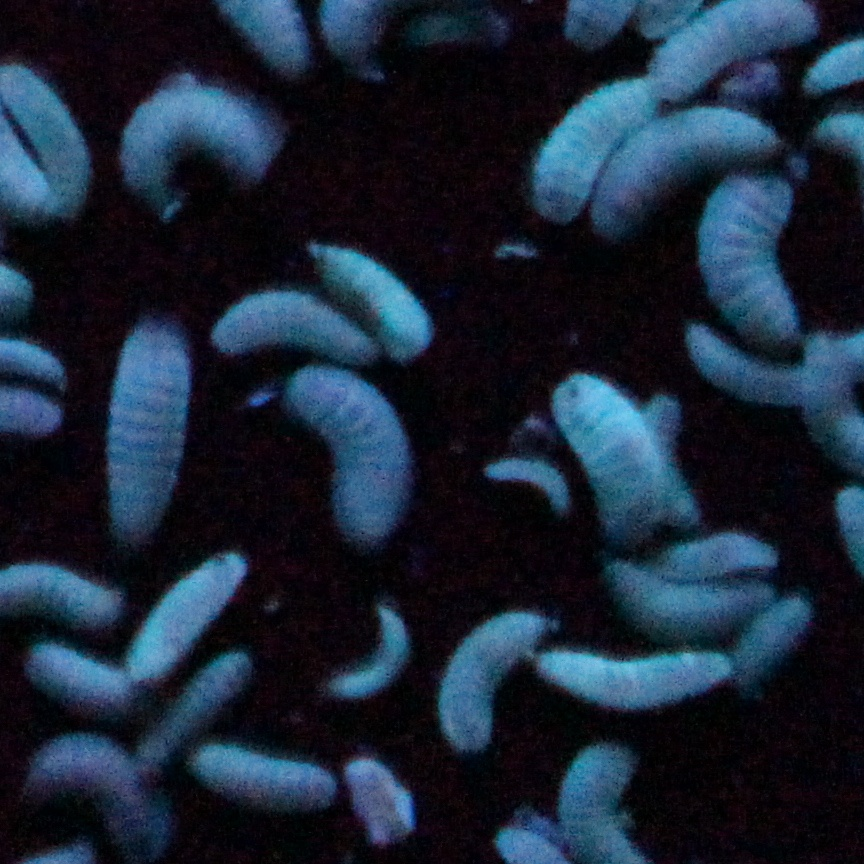larve: (281, 371, 403, 547), (586, 108, 765, 224), (552, 373, 668, 540), (125, 80, 268, 208), (101, 327, 184, 542), (699, 176, 799, 345), (442, 609, 555, 752), (537, 75, 647, 212), (22, 742, 153, 850), (117, 557, 242, 667), (309, 240, 429, 350), (524, 642, 725, 704), (594, 565, 766, 635), (206, 296, 371, 360), (681, 319, 806, 399), (188, 745, 337, 811), (157, 648, 240, 760), (325, 601, 409, 699), (29, 639, 139, 712), (730, 598, 809, 676), (640, 534, 783, 571), (484, 462, 566, 504)
